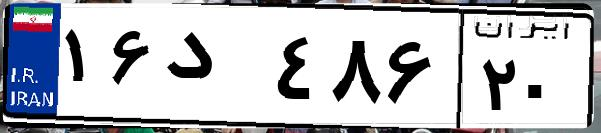0: (525, 38, 570, 115)
1: (57, 26, 110, 100)
2: (475, 38, 525, 113)
4: (270, 28, 330, 110)
6: (385, 28, 445, 110), (110, 28, 158, 98)
8: (330, 28, 385, 110)
د: (158, 20, 270, 120)
